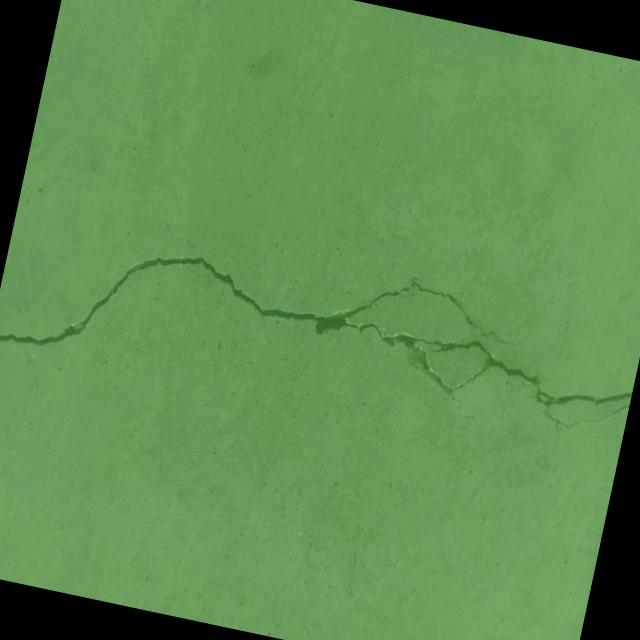crack: (0, 197, 640, 476)
